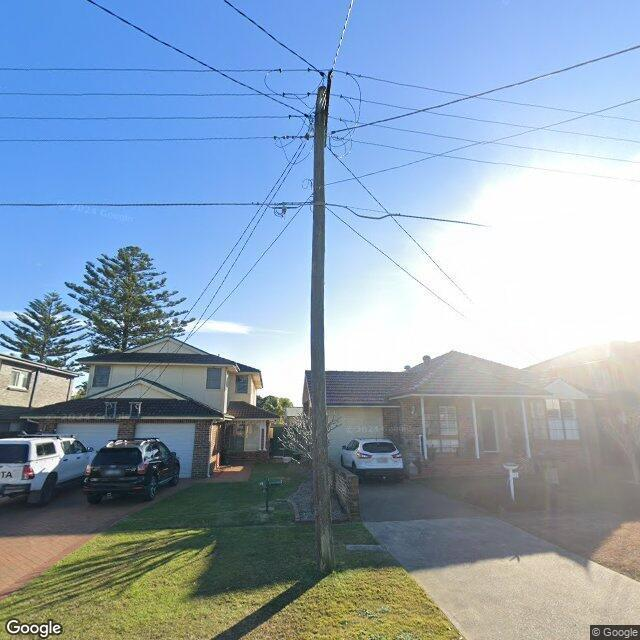crossarm: (322, 69, 333, 148)
timber-pole: (311, 86, 338, 572)
